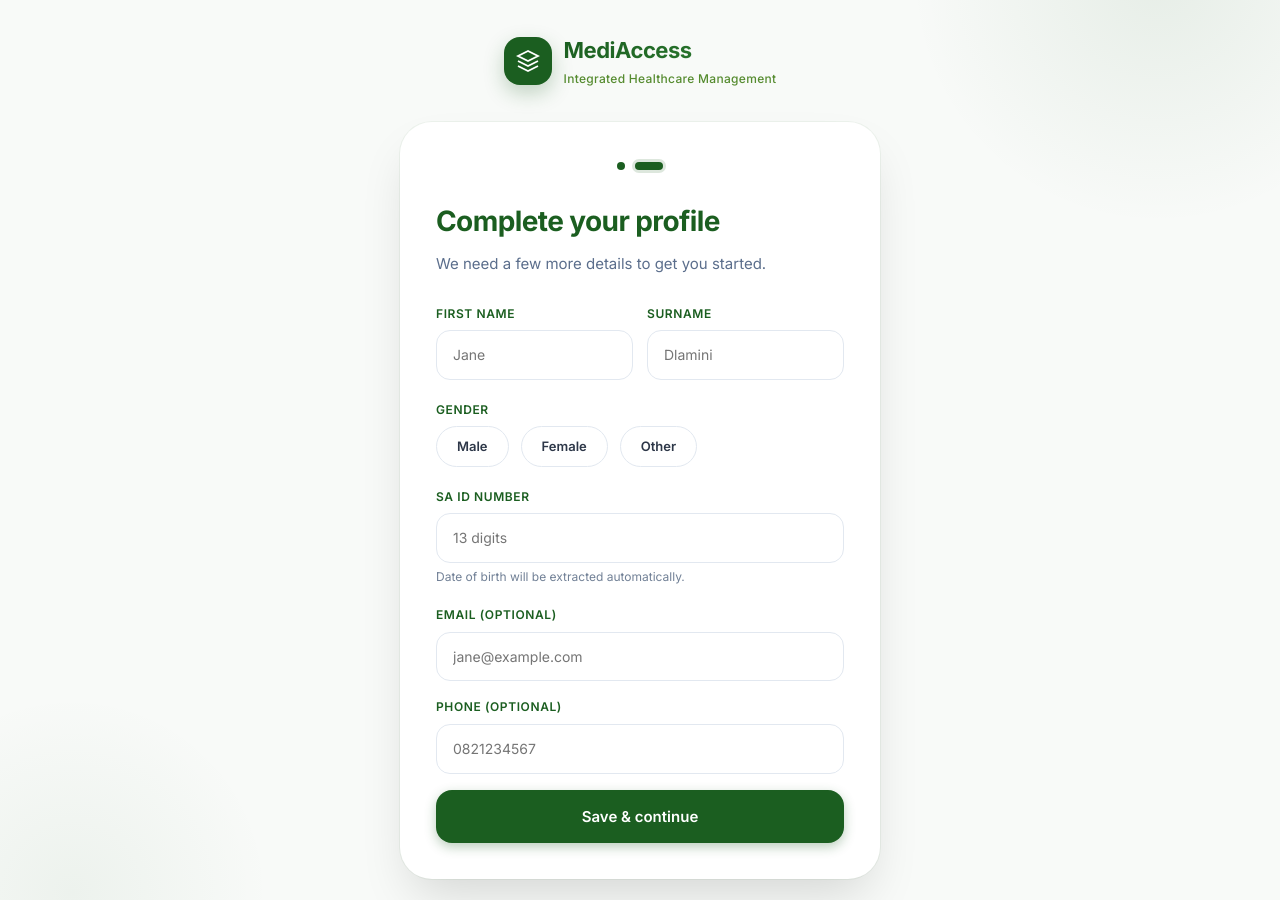
Scenario: ProfileStep - ID number validation › strips non-digit characters from the ID input
Type "abc9001015009087" into the field with placeholder "13 digits" at coordinates (640, 538), box [436,513,844,563]
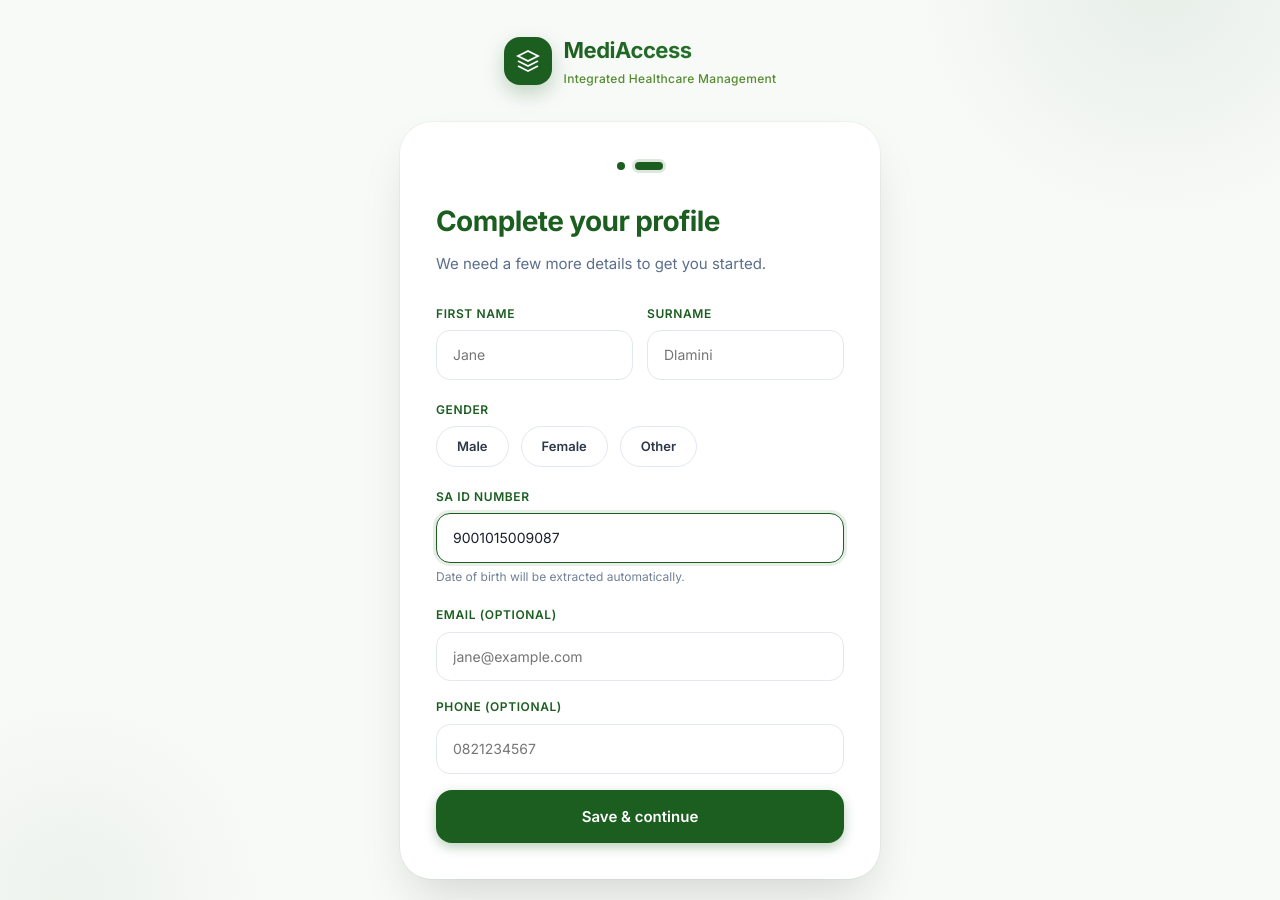
Expected: the field with placeholder "13 digits" holds "9001015009087", [436,513,844,563]
